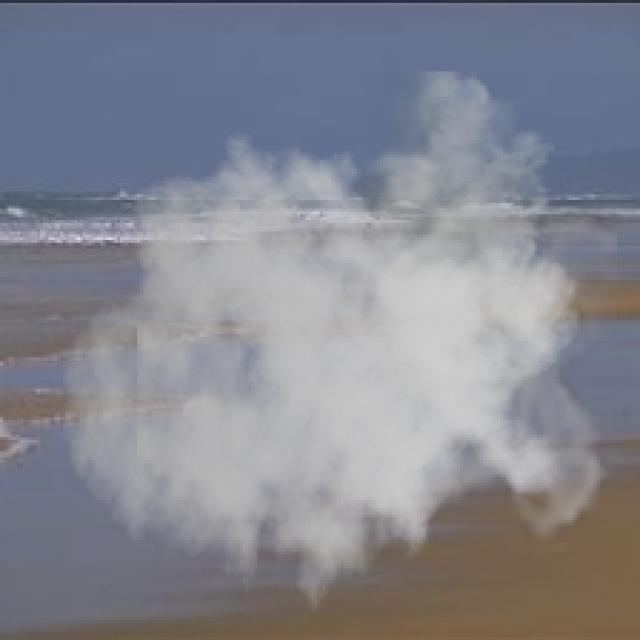smoke: (60, 71, 617, 634)
